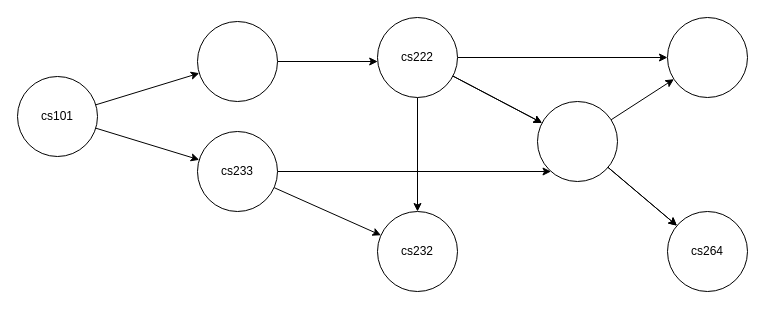
This 765x309 diagram has some shape labels left out. The centre of each missing label's shape, as x and y in pixels:
"cs221" belongs at (x=237, y=61).
"cs223" belongs at (x=577, y=141).
"cs224" belongs at (x=707, y=57).
